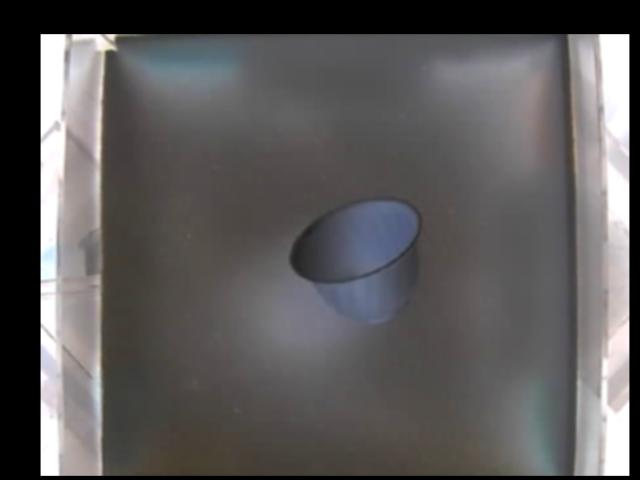Cup: (288, 195, 424, 321)
